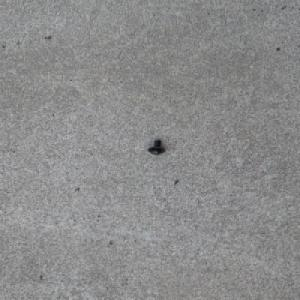BoltWasher: (147, 139, 166, 155)
